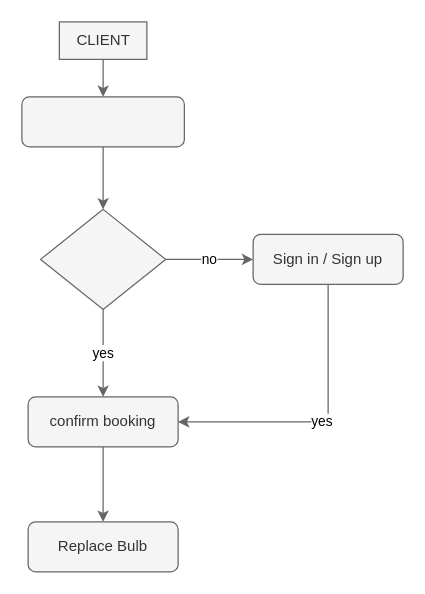
The diagram is 425 pixels wide and 594 high, and some of its shapes have lost their labels. The box of each missing label's shape, as (x1, y1, x2, y2) in pixels:
Booking(including all selections): (21, 96, 184, 147)
LoggedIn ?: (39, 208, 166, 309)
